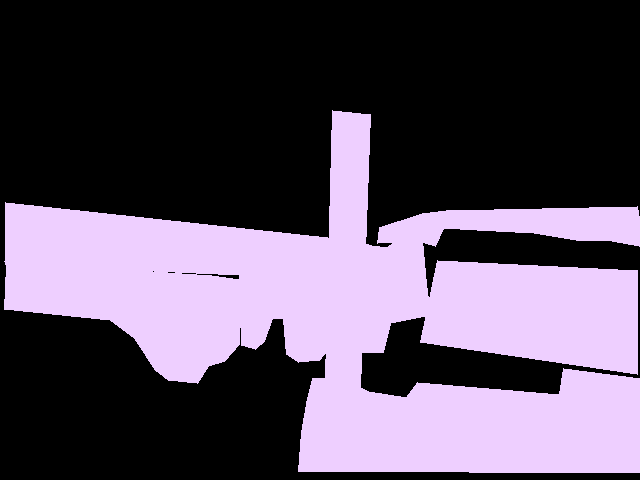Train: (298, 110, 640, 473), (5, 202, 430, 362), (4, 261, 239, 384), (420, 260, 638, 375), (377, 206, 640, 247)
